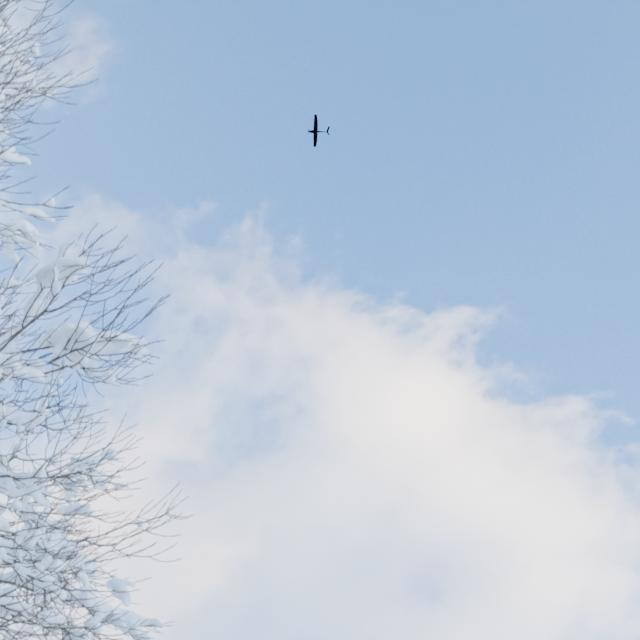Airaplan: (308, 114, 330, 147)
